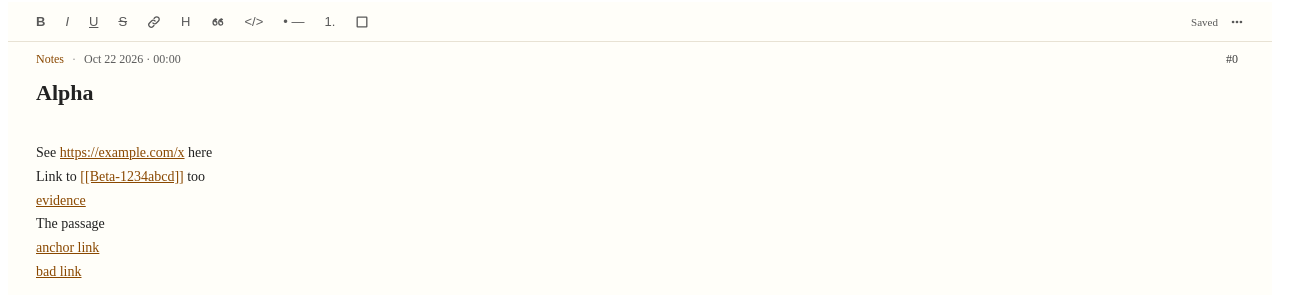
Cmd+click a missing wikilink opens the chip instead, with only Copy
Click the text box labelled "Link to [ [Beta-1234abcd]] too".
click(121, 176)  # box [36,169,205,184]
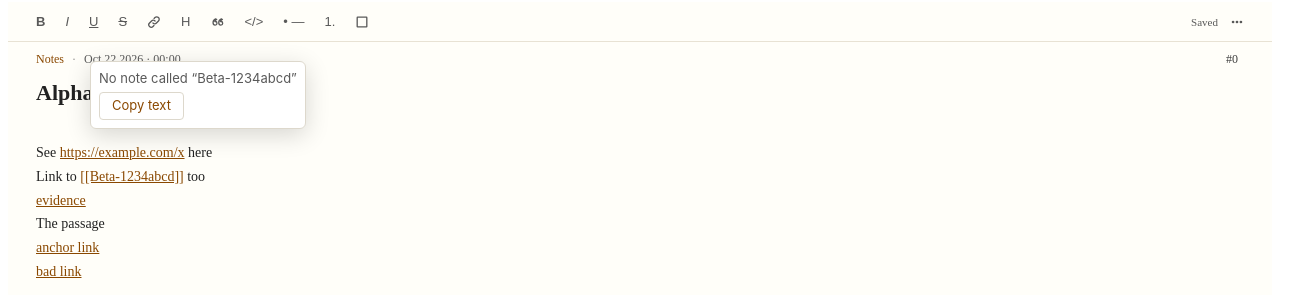
Check: the element with class "link-chip" is shown, box [90,61,306,128]
Check: the element with class "link-chip" shows "No note called “Beta-1234abcd”", box [99,70,297,86]
